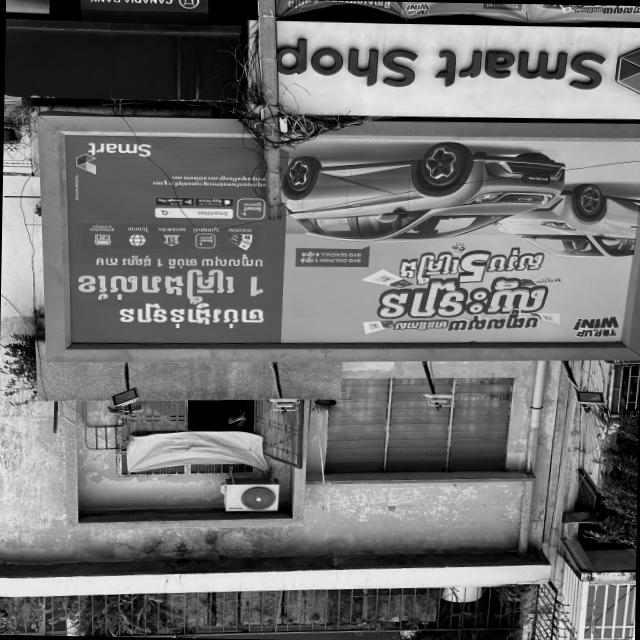14: (92, 253, 267, 270)
152: (392, 246, 555, 284)
508: (71, 272, 272, 300)
Yolov11kh: (367, 279, 553, 322), (111, 304, 270, 332), (388, 315, 549, 334)
